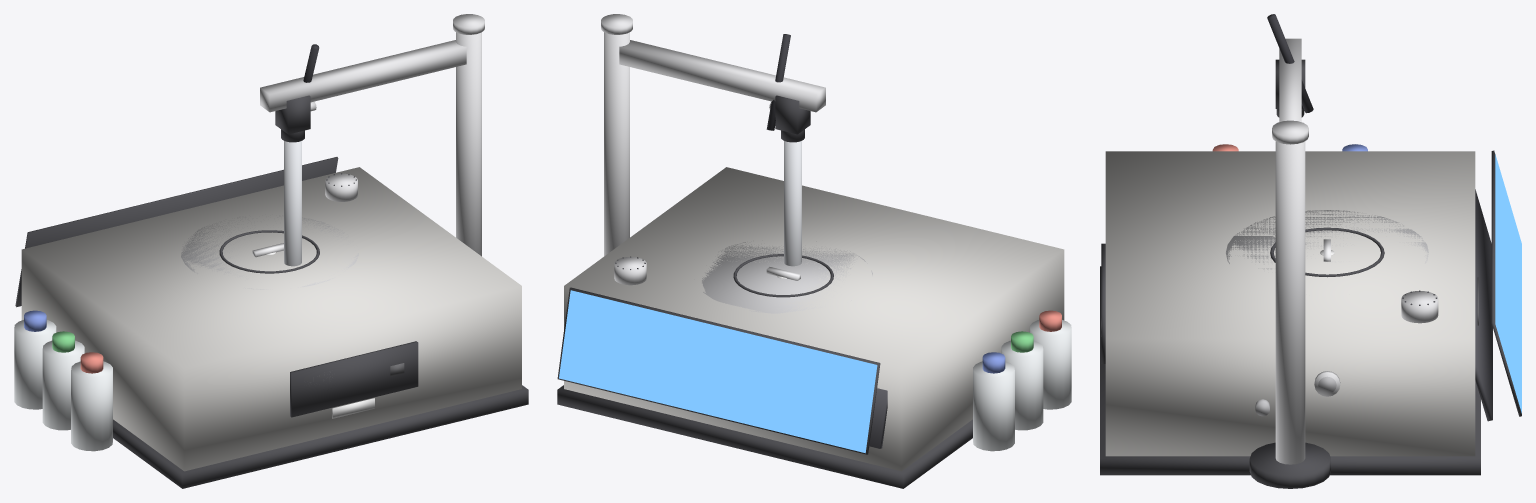
File: ph_meter.glb
3 views of the same model, side by side, from view 1: azimuth 30°, elevation 25°; view 2: azimuth 150°, elevation 25°; view 3: azimuth 270°, elevation 25° (orthographic). The views are drawn at different scales.
Parts seen in each view (by area): view 1: Body_Main, BaseRim, Rear_PortBay, ProbeArm_Horizontal, ProbeArm_Post, LCD_Bezel, Buffer_pH4_Body, Buffer_pH7_Body, Buffer_pH10_Body, Probe_Body, Stirrer_Plate, ProbeArm_Clamp (+3 smaller); view 2: Body_Main, LCD_Screen, BaseRim, Stirrer_Plate, ProbeArm_Horizontal, ProbeArm_Post, Buffer_pH10_Body, Buffer_pH7_Body, Buffer_pH4_Body, Probe_Body, LCD_Bezel, ProbeArm_Clamp (+5 smaller); view 3: Body_Main, ProbeArm_Post, BaseRim, LCD_Screen, ControlPanel, ProbeArm_Base, Stirrer_Plate, ProbeArm_Horizontal, LCD_Bezel, Knob_StirSpeed, ProbeArm_Cap, Probe_Cable (+2 smaller).
Boxes of the visible parts, x1,y1,x2,y2 form: Body_Main: (21, 167, 521, 471); BaseRim: (113, 385, 528, 488); Rear_PortBay: (290, 341, 418, 417); ProbeArm_Horizontal: (260, 40, 466, 112); ProbeArm_Post: (456, 32, 481, 256); LCD_Bezel: (15, 157, 338, 307); Buffer_pH4_Body: (71, 361, 112, 451); Buffer_pH7_Body: (42, 340, 84, 430); Buffer_pH10_Body: (14, 320, 56, 409); Probe_Body: (284, 141, 301, 266); Stirrer_Plate: (181, 215, 358, 289); ProbeArm_Clamp: (275, 95, 310, 134); Body_Main: (564, 167, 1064, 471); LCD_Screen: (559, 290, 877, 453); BaseRim: (557, 385, 972, 488); Stirrer_Plate: (702, 241, 872, 313); ProbeArm_Horizontal: (619, 40, 825, 112); ProbeArm_Post: (604, 32, 629, 256); Buffer_pH10_Body: (973, 361, 1014, 451); Buffer_pH7_Body: (1001, 340, 1043, 430); Buffer_pH4_Body: (1029, 320, 1071, 409); Probe_Body: (784, 141, 801, 266); LCD_Bezel: (557, 287, 880, 454); ProbeArm_Clamp: (775, 95, 810, 134); Body_Main: (1105, 151, 1475, 456); ProbeArm_Post: (1275, 141, 1305, 464); BaseRim: (1100, 266, 1480, 475); LCD_Screen: (1495, 154, 1521, 413); ControlPanel: (1475, 189, 1492, 421); ProbeArm_Base: (1249, 442, 1330, 488); Stirrer_Plate: (1226, 210, 1428, 269); ProbeArm_Horizontal: (1279, 38, 1301, 121); LCD_Bezel: (1491, 150, 1521, 416); Knob_StirSpeed: (1401, 291, 1438, 323); ProbeArm_Cap: (1272, 120, 1308, 144); Probe_Cable: (1267, 14, 1313, 113).
Bounding box in the file's own units: 0.323 × 0.229 × 0.2282.
